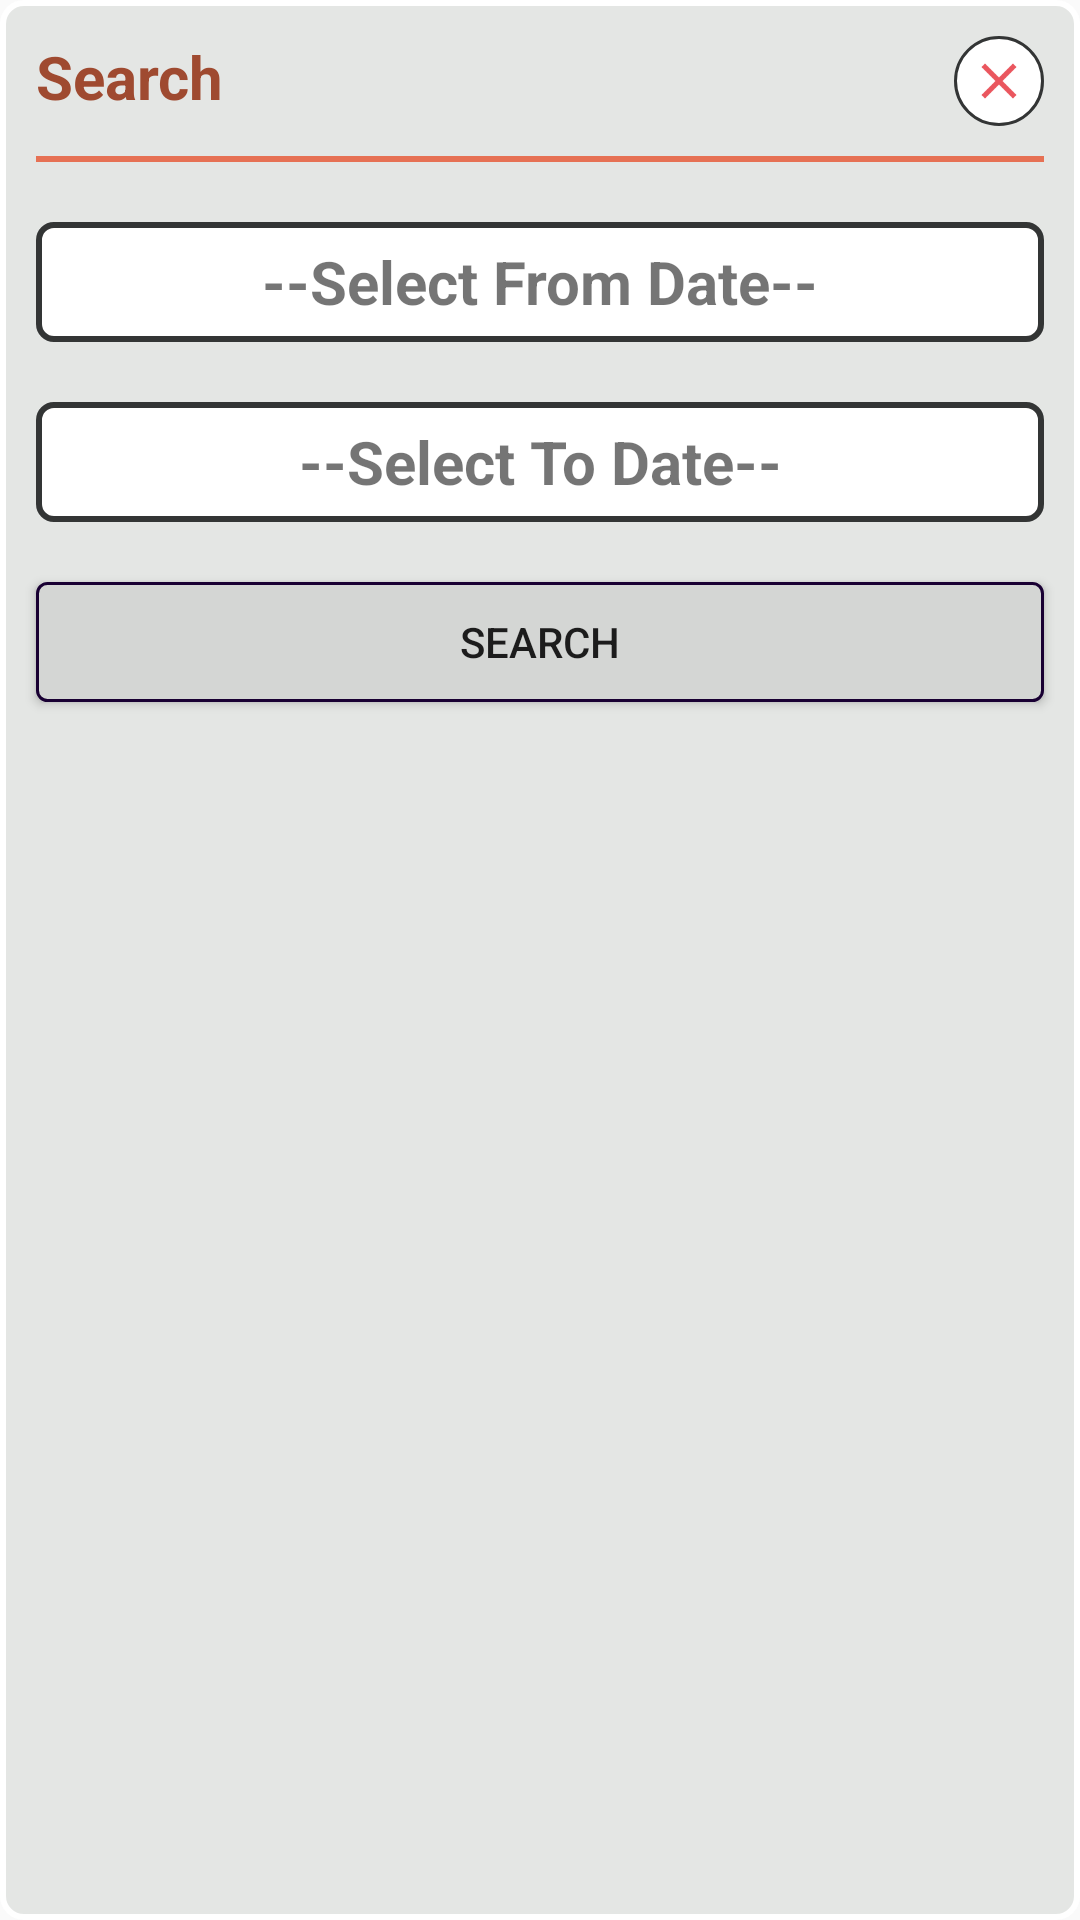

Icons on this 1080px x 1920px Android screen, each with the point to tap as (x=x, y=y):
close: (x=999, y=81)
